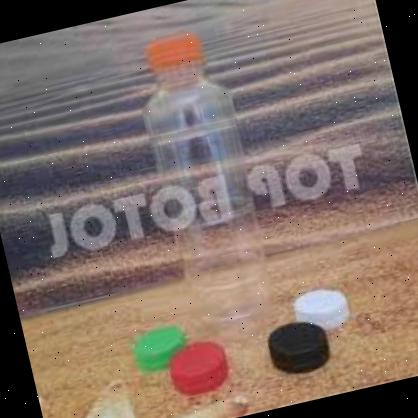bottle: (119, 9, 294, 341)
cap: (138, 30, 209, 82)
